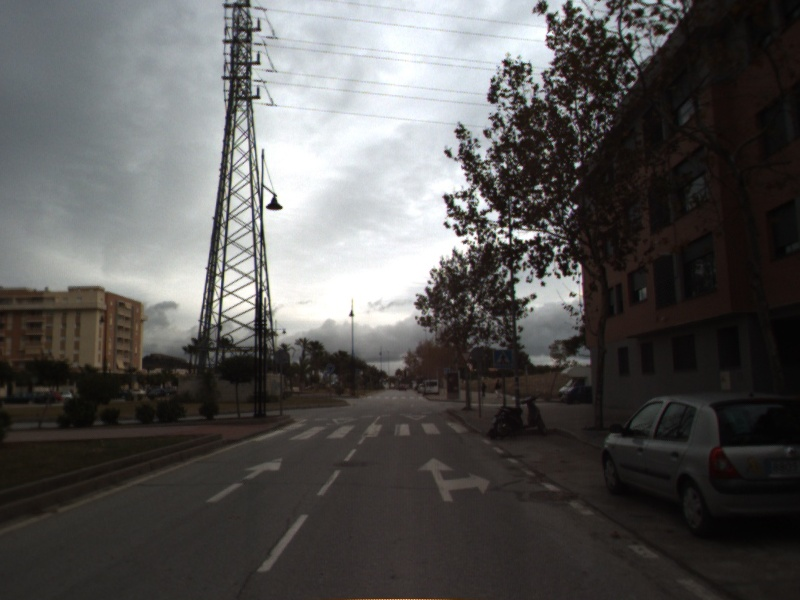STRAIGHT: (203, 455, 284, 505)
STRAIGHT_RIGHT: (415, 455, 492, 504)
